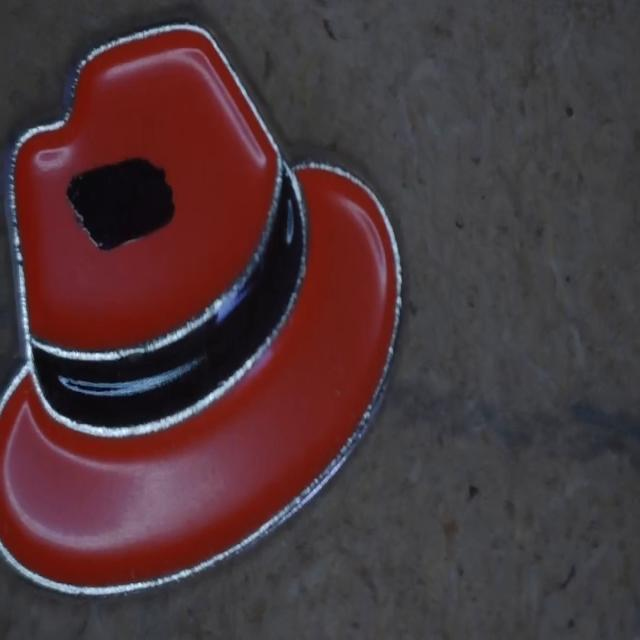Hatband: (31, 162, 305, 433)
Paint_Leak: (68, 158, 175, 249)
RedHatPin: (0, 27, 400, 593)
